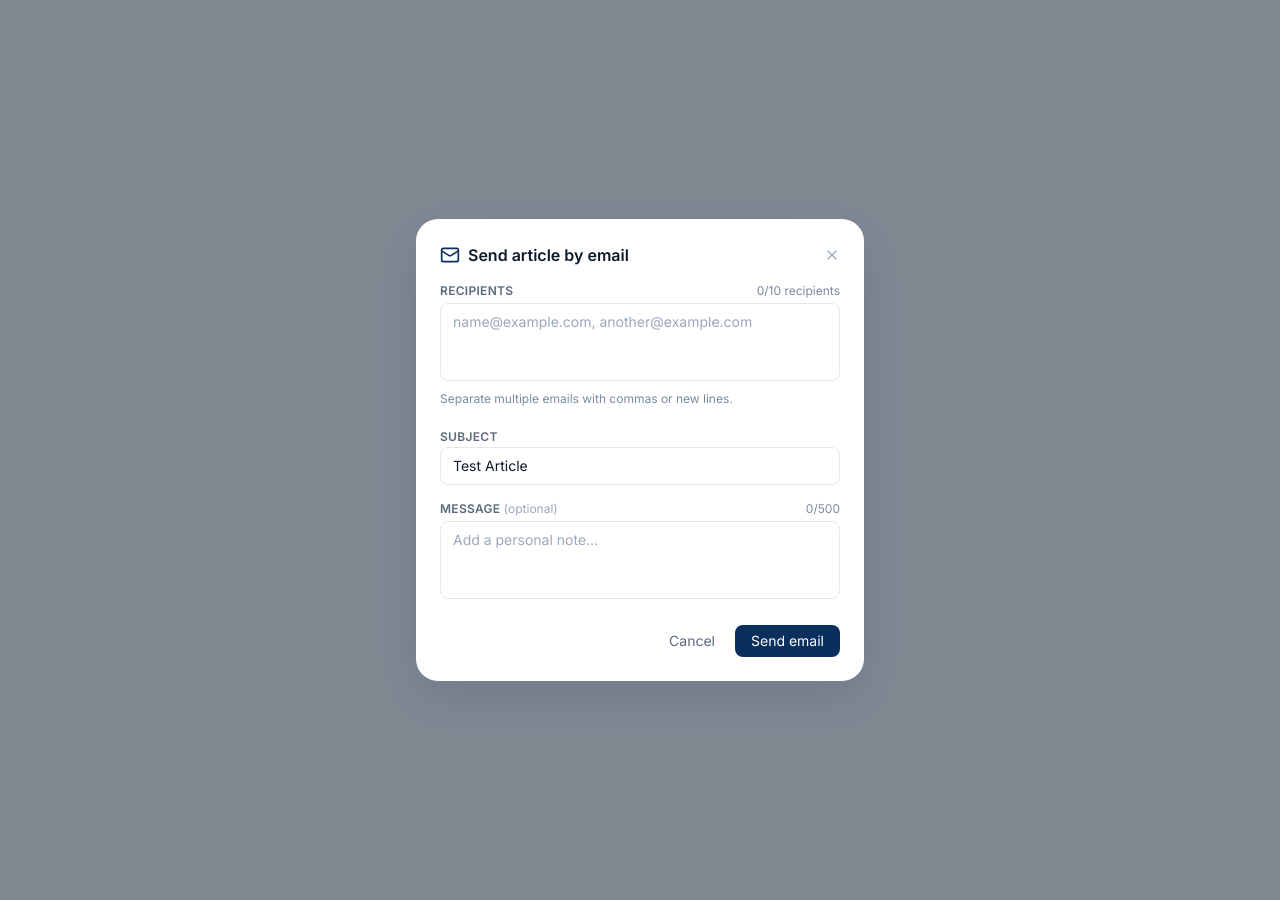
Test case: EmailArticleModal (KR-084) › updates recipients count as user types
Type "a@b.com, c@d.com" into the text box with placeholder "name@example.com, another@example.com".
click(640, 342); type("a@b.com, c@d.com")  # box x1=440 y1=303 x2=840 y2=381
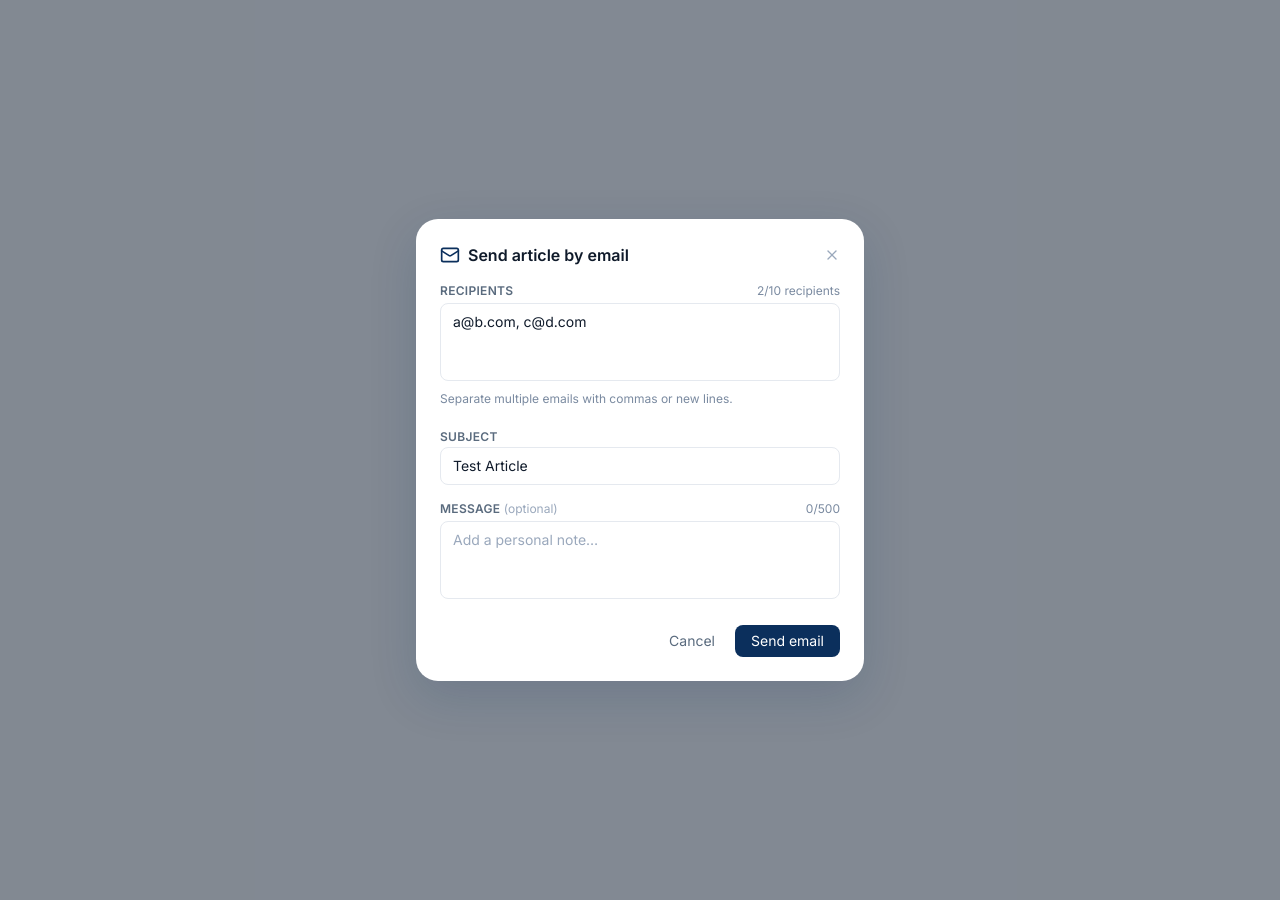
Now the text "2/10 recipients" is shown, box x1=757 y1=283 x2=840 y2=299
